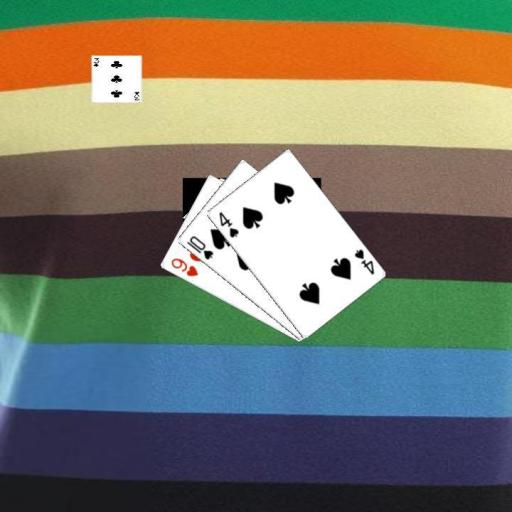card-corner: (183, 233, 215, 261), (350, 246, 376, 276), (216, 208, 240, 239), (167, 255, 199, 278)
